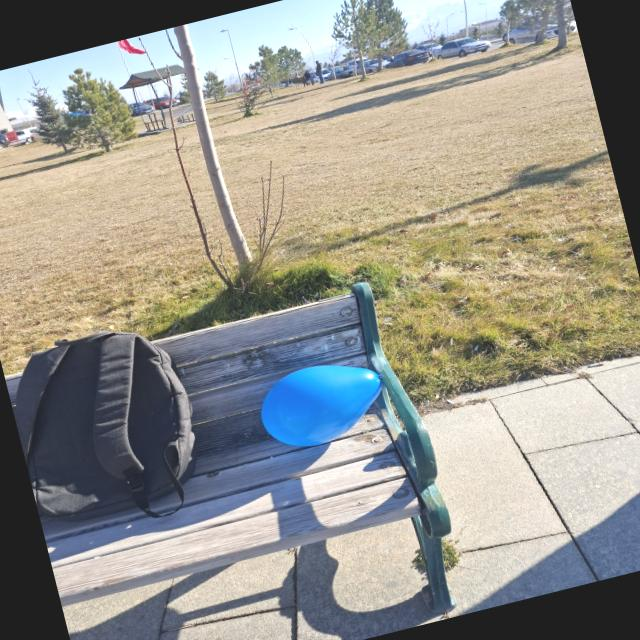balloon: (261, 365, 381, 446)
